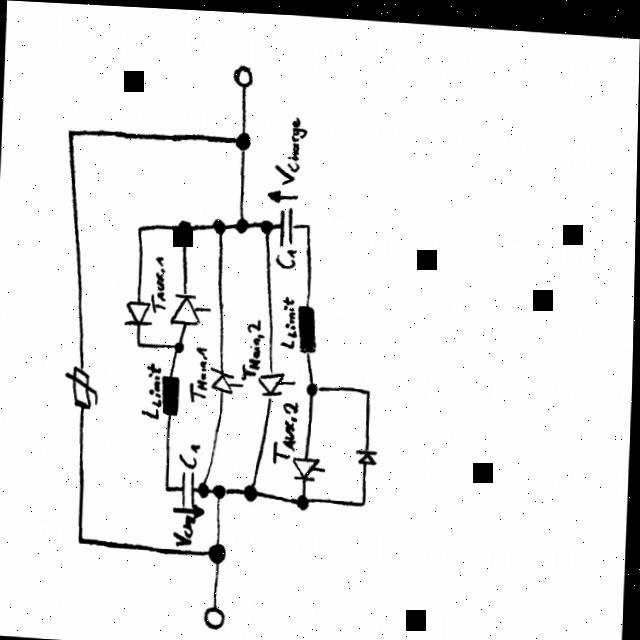capacitor: (278, 203, 295, 245), (181, 468, 198, 505)
diode: (123, 298, 153, 326), (356, 443, 379, 461)
inductor: (296, 301, 318, 350), (162, 373, 181, 416)
junction: (207, 539, 228, 562), (232, 127, 251, 152), (243, 478, 259, 500), (296, 488, 312, 508), (212, 480, 229, 497), (177, 217, 192, 236), (212, 215, 226, 234), (306, 377, 321, 394), (234, 214, 249, 231), (198, 478, 211, 497), (260, 216, 273, 233), (174, 338, 185, 353), (360, 494, 368, 503), (303, 218, 311, 227), (365, 383, 372, 392), (66, 128, 73, 137), (78, 534, 85, 543), (136, 339, 143, 347), (136, 223, 142, 232), (165, 483, 171, 491)
terminal: (205, 601, 227, 628), (231, 62, 252, 86)
text: (273, 111, 307, 184), (272, 395, 301, 461), (240, 314, 266, 378), (187, 341, 211, 403), (141, 359, 163, 419), (150, 251, 169, 314), (280, 291, 299, 347), (174, 512, 197, 546), (178, 438, 203, 467), (274, 243, 299, 267)
thyristor: (169, 288, 215, 326), (257, 367, 300, 396), (209, 363, 249, 393), (292, 452, 326, 479)
